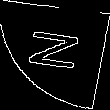N_E: (22, 31, 88, 79)
